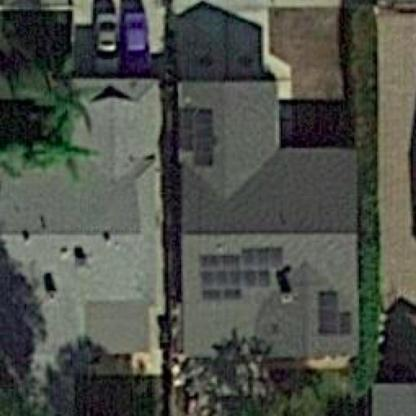car: (83, 5, 122, 72), (123, 4, 158, 76)
solar_panel: (197, 238, 287, 305), (179, 97, 223, 176), (311, 281, 355, 350)
